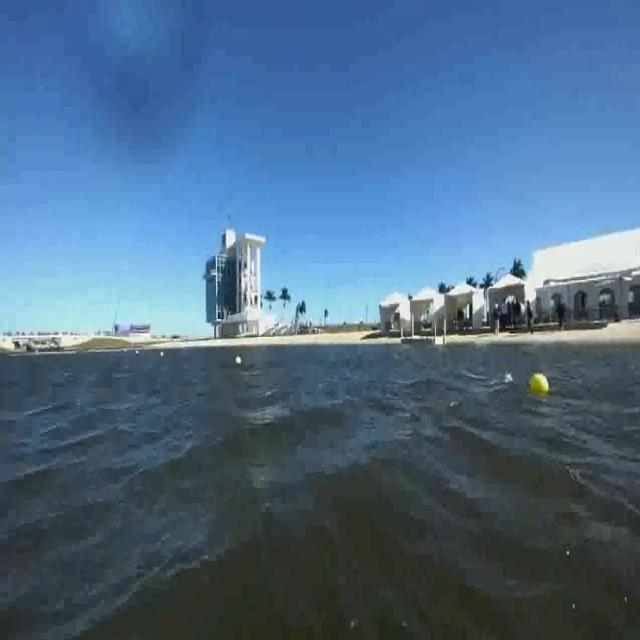yellow-buoy: (532, 372, 552, 394)
